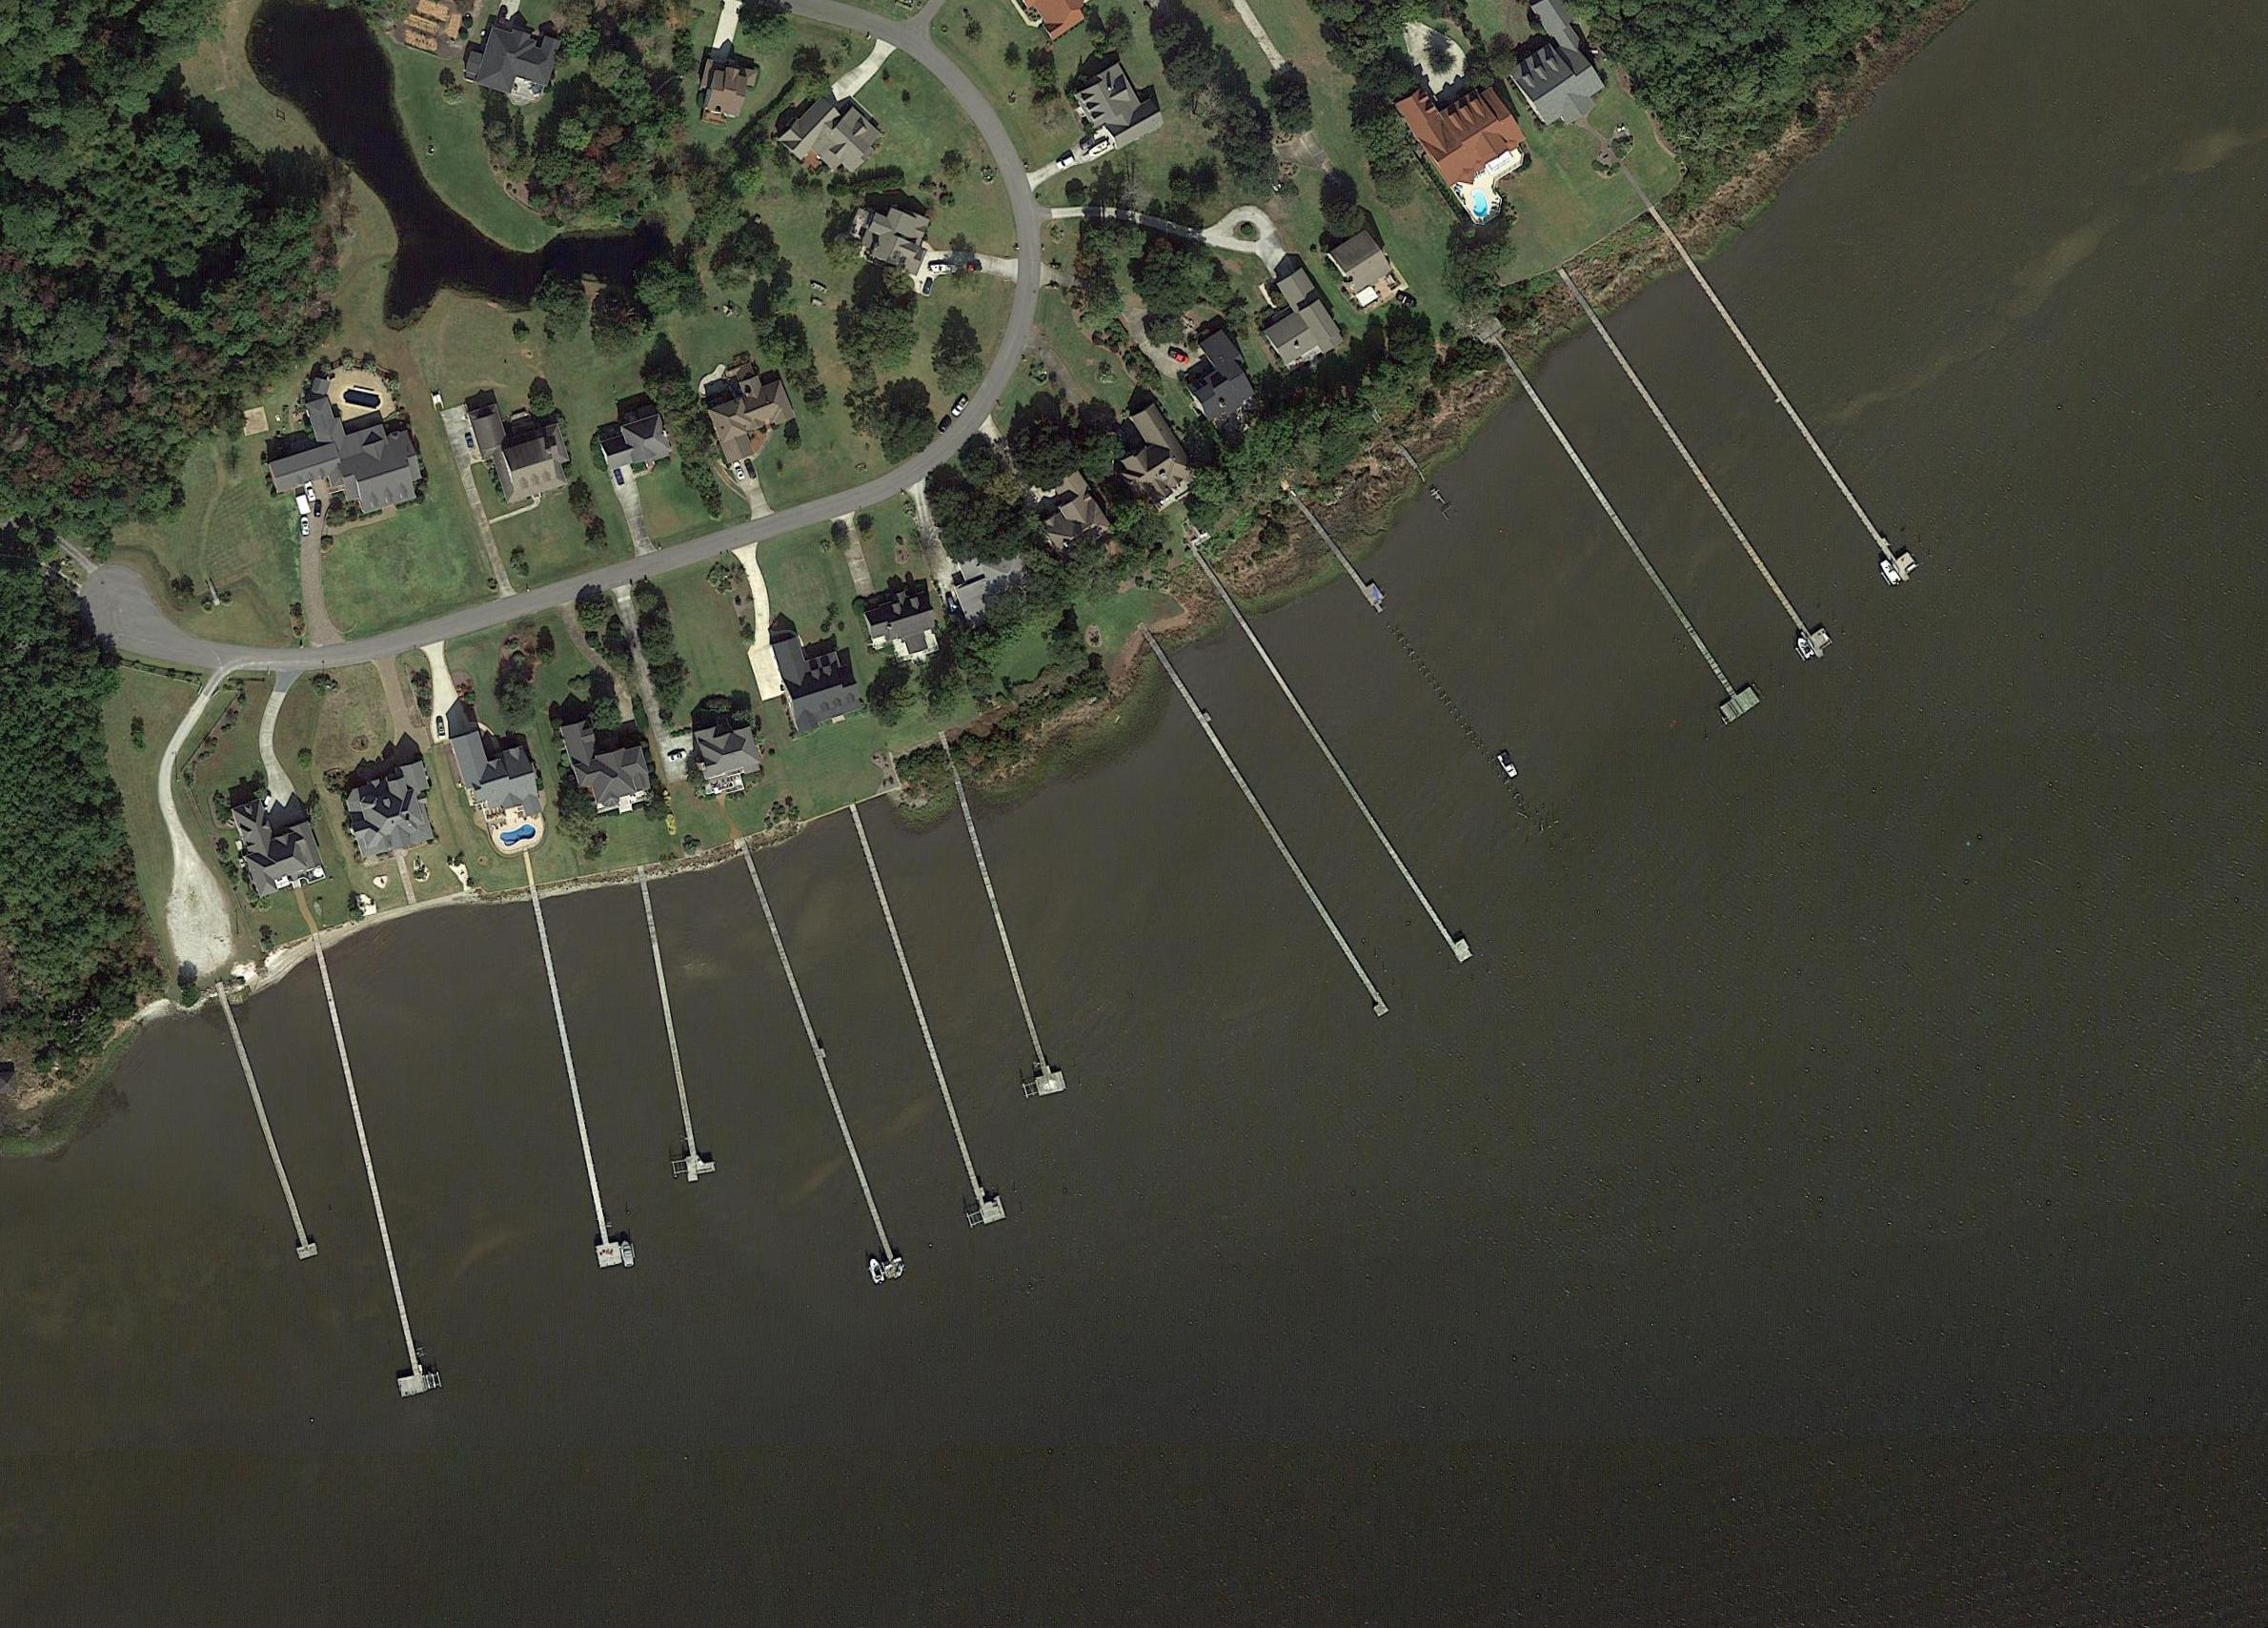harbor: (1226, 592, 1476, 964), (1689, 254, 1923, 585), (1532, 402, 1763, 726), (1611, 342, 1835, 661), (1178, 692, 1391, 1018), (856, 823, 1009, 1226), (755, 902, 905, 1281), (308, 966, 433, 1401), (519, 888, 627, 1274), (944, 770, 1067, 1098), (220, 1006, 320, 1262), (636, 890, 718, 1186), (1305, 506, 1391, 615)
ship: (1877, 559, 1903, 587), (1497, 751, 1520, 781), (866, 1254, 887, 1286), (618, 1237, 637, 1270), (1794, 636, 1817, 661), (1086, 139, 1113, 160), (428, 389, 445, 412), (931, 264, 958, 277)
